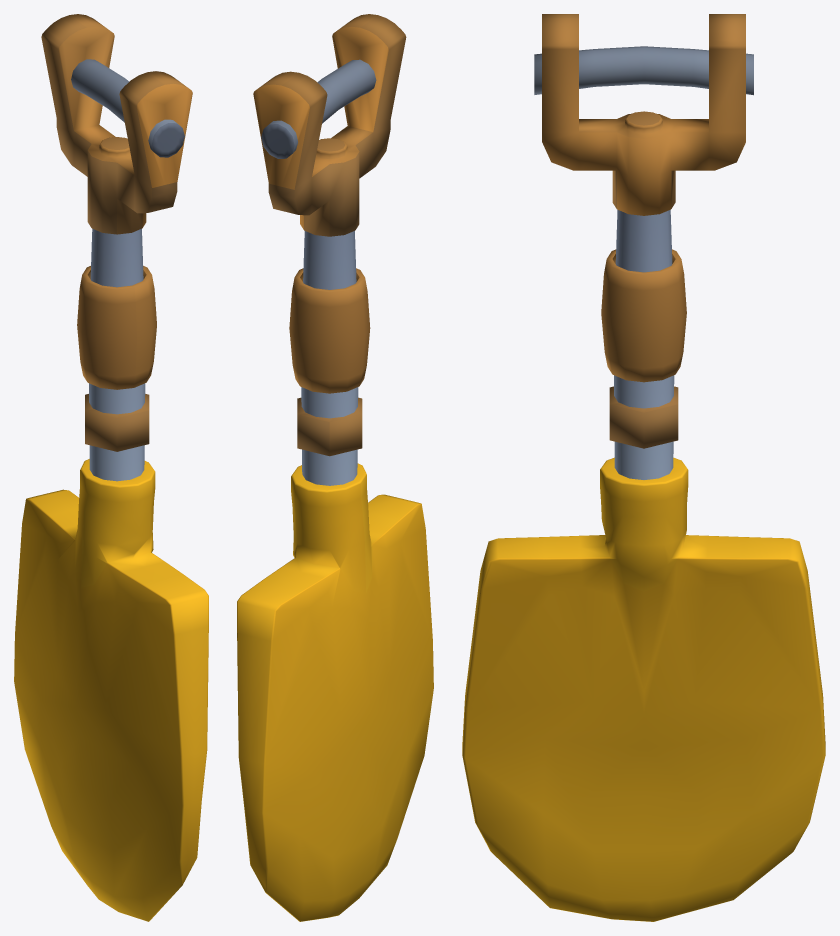
The model's file is shovel1.fbx.
3 views of the same model, side by side, from view 1: azimuth 30°, elevation 25°; view 2: azimuth 150°, elevation 25°; view 3: azimuth 270°, elevation 25° (orthographic). The views are drawn at different scales.
Visible parts, largest first — view 1: Shovel_Low; view 2: Shovel_Low; view 3: Shovel_Low.
Boxes of the visible parts, x1,y1,x2,y2 form: Shovel_Low: (14, 14, 208, 921); Shovel_Low: (237, 14, 433, 921); Shovel_Low: (462, 14, 825, 921).
Size of the model in its own units: 0.1503 by 1.62 by 0.5862.
